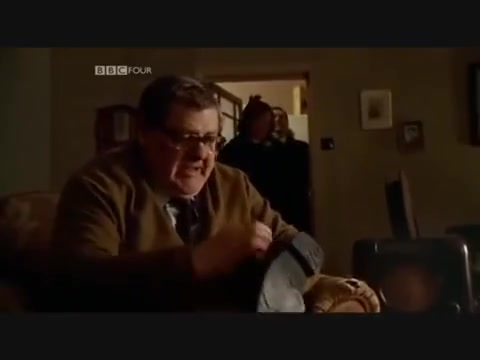Frotter: (194, 219, 274, 267)
